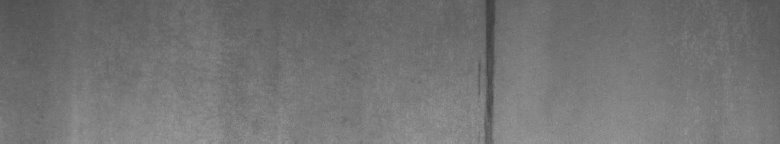hd: (476, 4, 500, 136)
